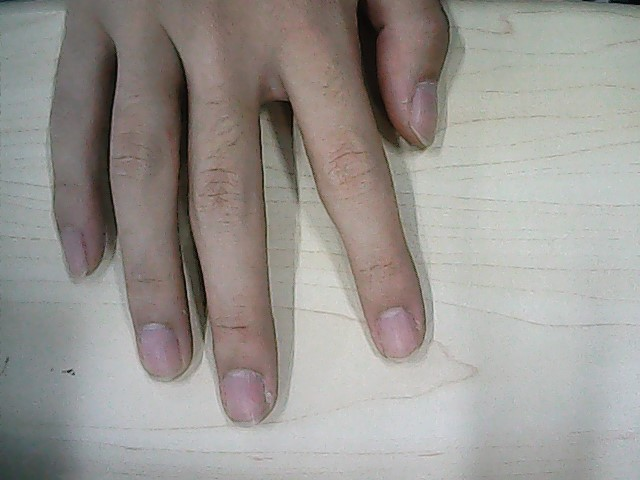nail: (138, 324, 183, 383), (220, 373, 268, 427), (378, 308, 417, 361), (413, 84, 437, 149), (61, 226, 87, 283)
